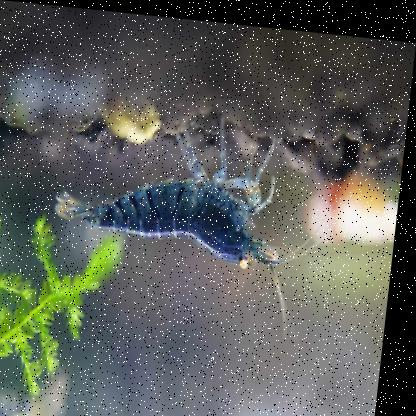shrimp: (53, 103, 299, 270)
